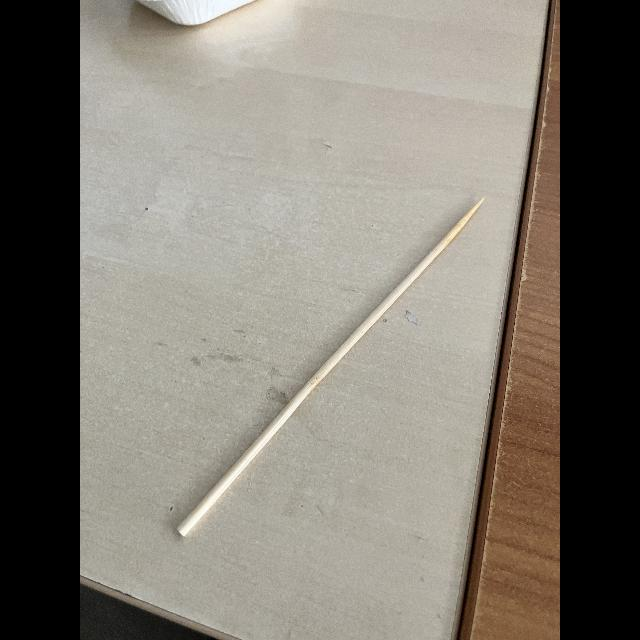stick: (166, 188, 494, 550)
